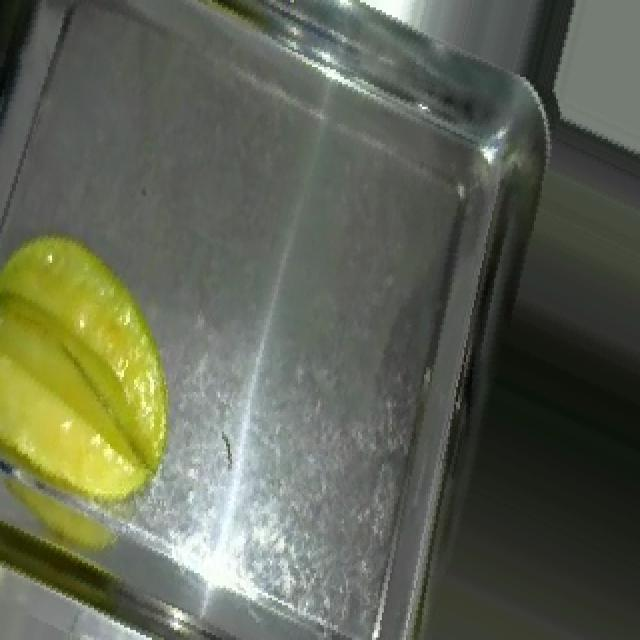fruit: (0, 203, 220, 551)
